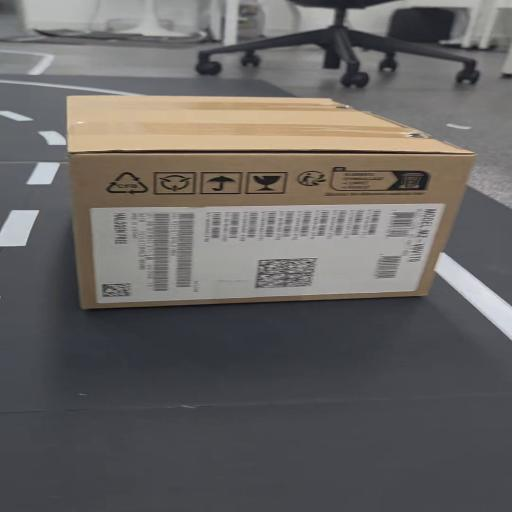Box: (62, 93, 474, 315)
